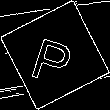P_N: (29, 25, 81, 85)
